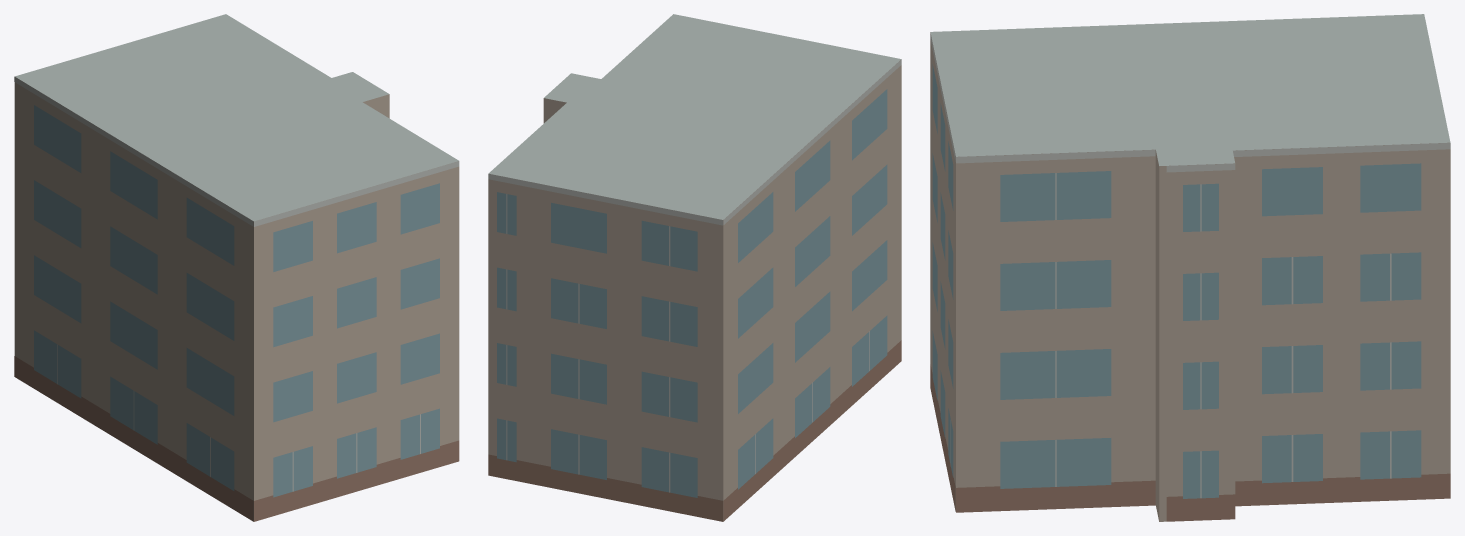
The model's file is survey-upis-32528213.glb.
3 renders of one model, left to right at view 1: azimuth 30°, elevation 25°; view 2: azimuth 150°, elevation 25°; view 3: azimuth 270°, elevation 25°, orthographic. The views are drawn at different scales.
Visible parts, largest first — view 1: survey-upis-32528213.tmp; view 2: survey-upis-32528213.tmp; view 3: survey-upis-32528213.tmp.
Part boxes in pixels (<box>): survey-upis-32528213.tmp: <box>14,14,459,521</box>; survey-upis-32528213.tmp: <box>488,14,901,521</box>; survey-upis-32528213.tmp: <box>930,14,1450,521</box>.
Size of the model in its own units: 12.02 by 13.1 by 17.37.
